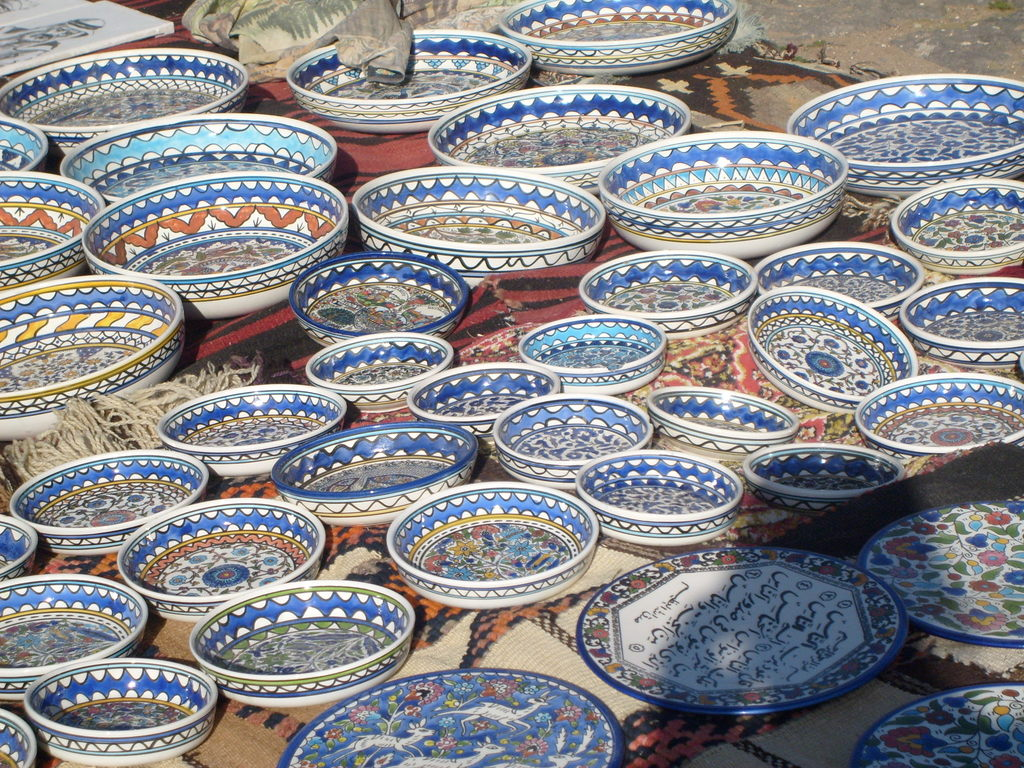plate: (828, 679, 1023, 767)
